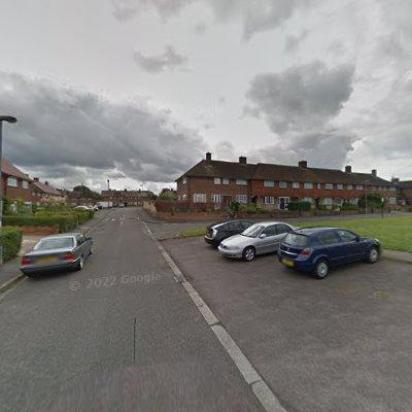stationary-car-onstreet: (276, 224, 382, 280), (20, 232, 94, 280), (217, 220, 301, 262), (204, 219, 262, 247)
